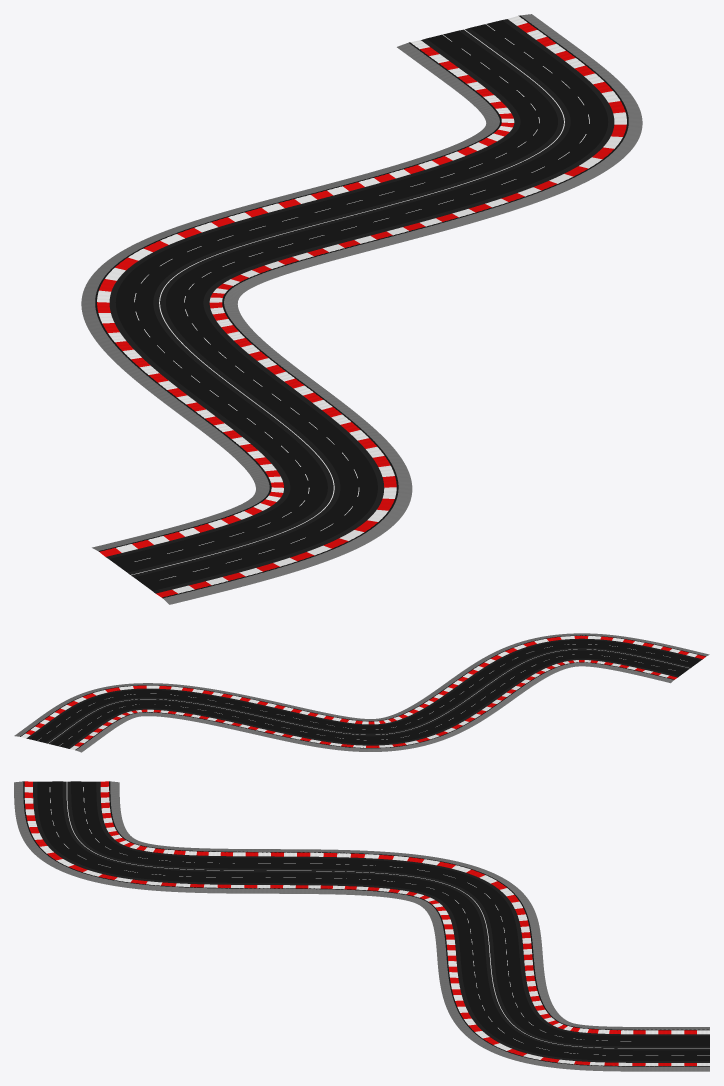
The model's file is S0.1l1-chikC.glb.
The picture shows the model from 3 angles, top to bottom: view 1: azimuth 30°, elevation 25°; view 2: azimuth 150°, elevation 25°; view 3: azimuth 270°, elevation 25°; orthographic projection. The views are drawn at different scales.
Parts seen in each view (by area): view 1: Grid.001; view 2: Grid.001; view 3: Grid.001.
Part boxes in pixels (x1,y1,x2,y2): Grid.001: [81, 14, 642, 604]; Grid.001: [14, 633, 709, 752]; Grid.001: [14, 781, 709, 1071].
Bounding box in the file's own units: 162 × 0.31 × 165.
